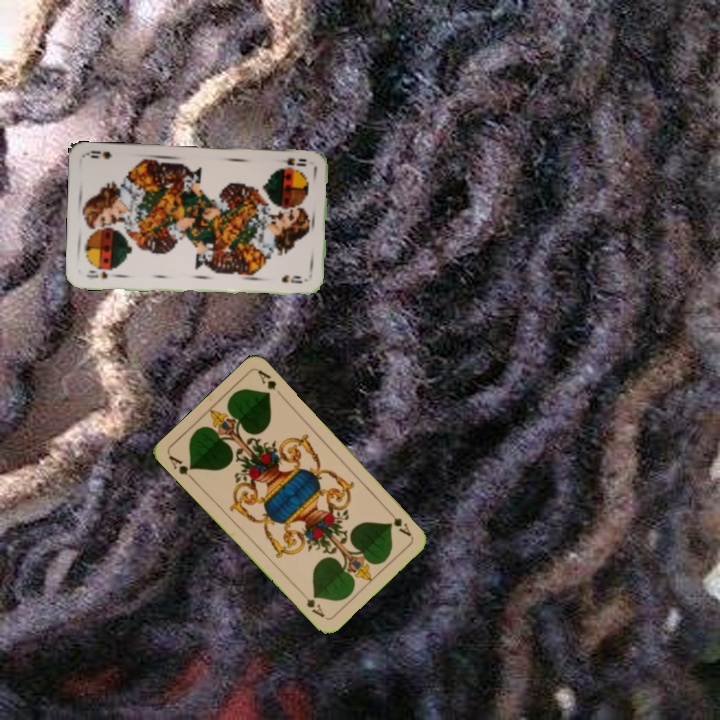GA: (165, 451, 198, 484), (383, 505, 414, 539)
SO: (272, 154, 309, 170), (82, 266, 120, 281)
